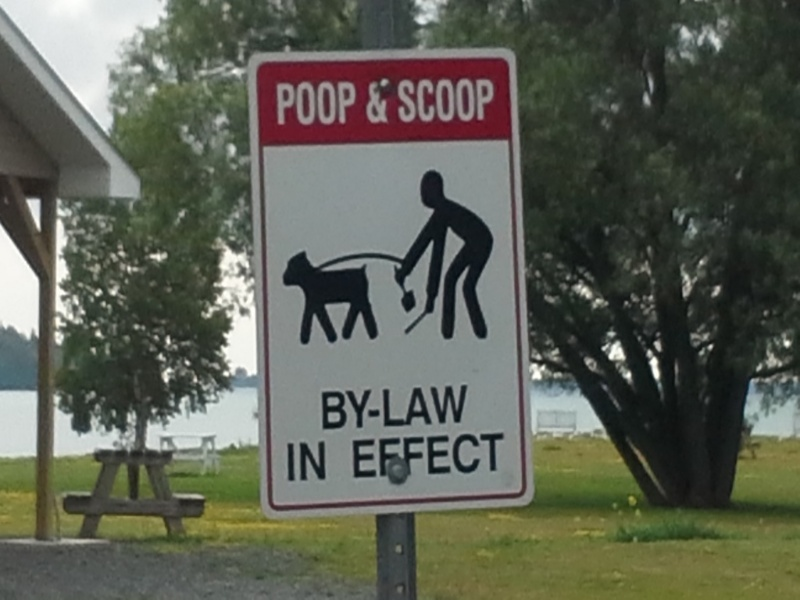poop_scoop: (257, 64, 540, 501)
